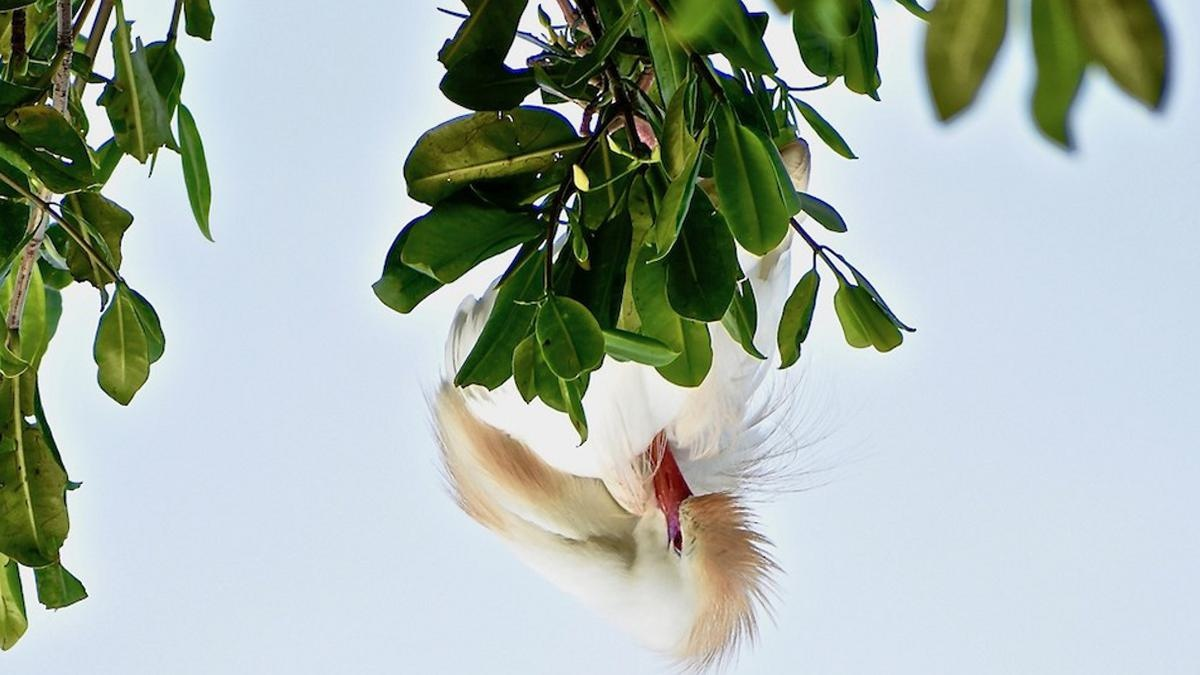egret: (419, 267, 829, 672)
